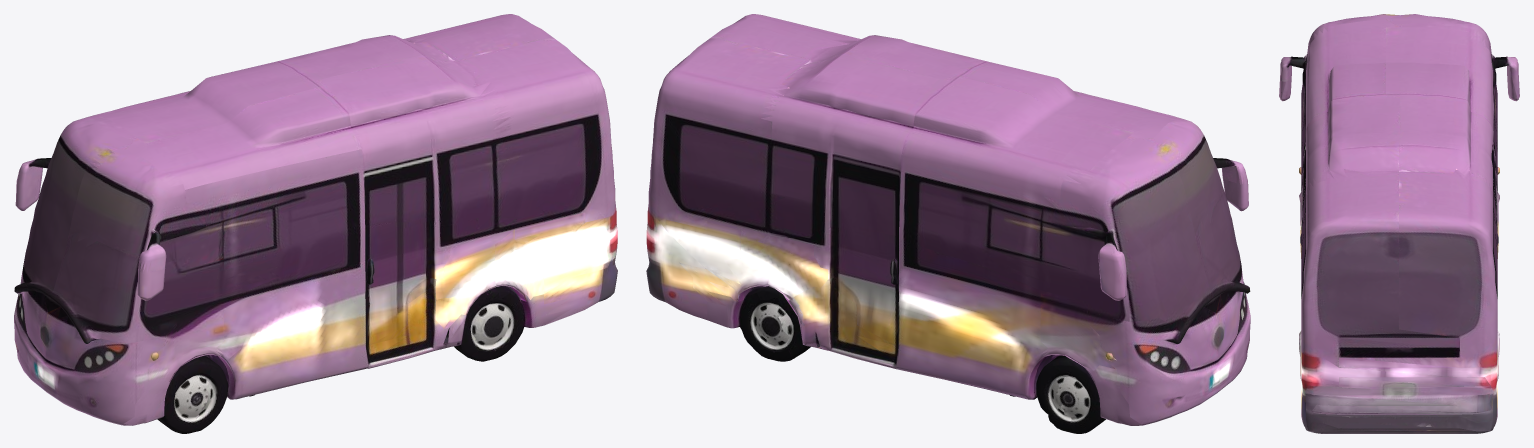
Rendered from starter-bus-02.glb.
3 renders of one model, left to right at view 1: azimuth 30°, elevation 25°; view 2: azimuth 150°, elevation 25°; view 3: azimuth 270°, elevation 25°, orthographic. The views are drawn at different scales.
Visible parts, largest first — view 1: mesh_node; view 2: mesh_node; view 3: mesh_node.
Part boxes in pixels (bbox=[...]): mesh_node: bbox=[14, 14, 617, 433]; mesh_node: bbox=[646, 14, 1250, 433]; mesh_node: bbox=[1279, 14, 1519, 433].
Bounding box in the file's own units: 1.91 × 0.9511 × 0.8023.
Materials: 1 (1 with a texture image).
